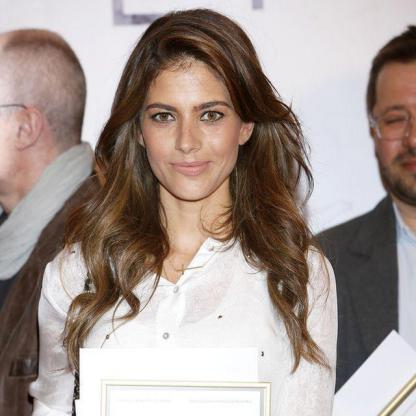long-hair: (78, 201, 317, 274)
